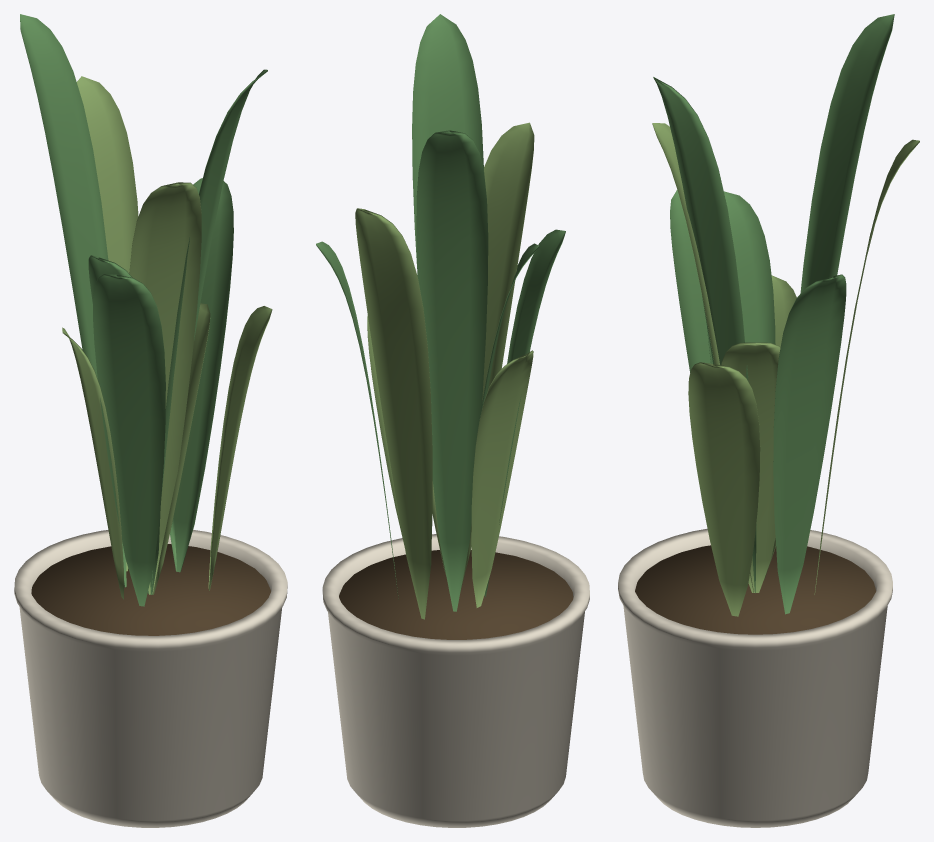
File: snakeplant.glb
3 renders of one model, left to right at view 1: azimuth 30°, elevation 25°; view 2: azimuth 150°, elevation 25°; view 3: azimuth 270°, elevation 25°, orthographic. The views are drawn at different scales.
Visible parts, largest first — view 1: snakeplant__body, snakeplant__leaves, snakeplant__young_leaves, snakeplant__soil; view 2: snakeplant__body, snakeplant__leaves, snakeplant__young_leaves, snakeplant__soil; view 3: snakeplant__body, snakeplant__leaves, snakeplant__young_leaves, snakeplant__soil.
Part boxes in pixels (x1,y1,x2,y2): snakeplant__body: [14, 530, 287, 827]; snakeplant__leaves: [20, 14, 267, 606]; snakeplant__young_leaves: [62, 76, 272, 599]; snakeplant__soil: [31, 544, 270, 635]; snakeplant__body: [322, 534, 589, 827]; snakeplant__leaves: [316, 14, 565, 611]; snakeplant__young_leaves: [355, 122, 534, 619]; snakeplant__soil: [339, 550, 573, 639]; snakeplant__body: [618, 528, 892, 827]; snakeplant__leaves: [653, 14, 894, 614]; snakeplant__young_leaves: [652, 123, 919, 616]; snakeplant__soil: [635, 545, 876, 634].
Bounding box in the file's own units: 0.26 × 0.7715 × 0.2854.
